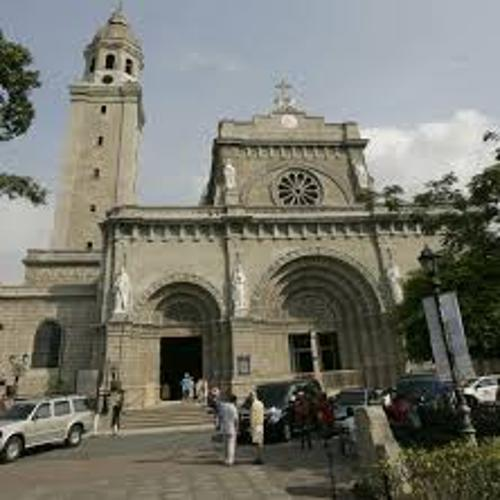Manila Cathedral Church: (30, 2, 465, 414)
